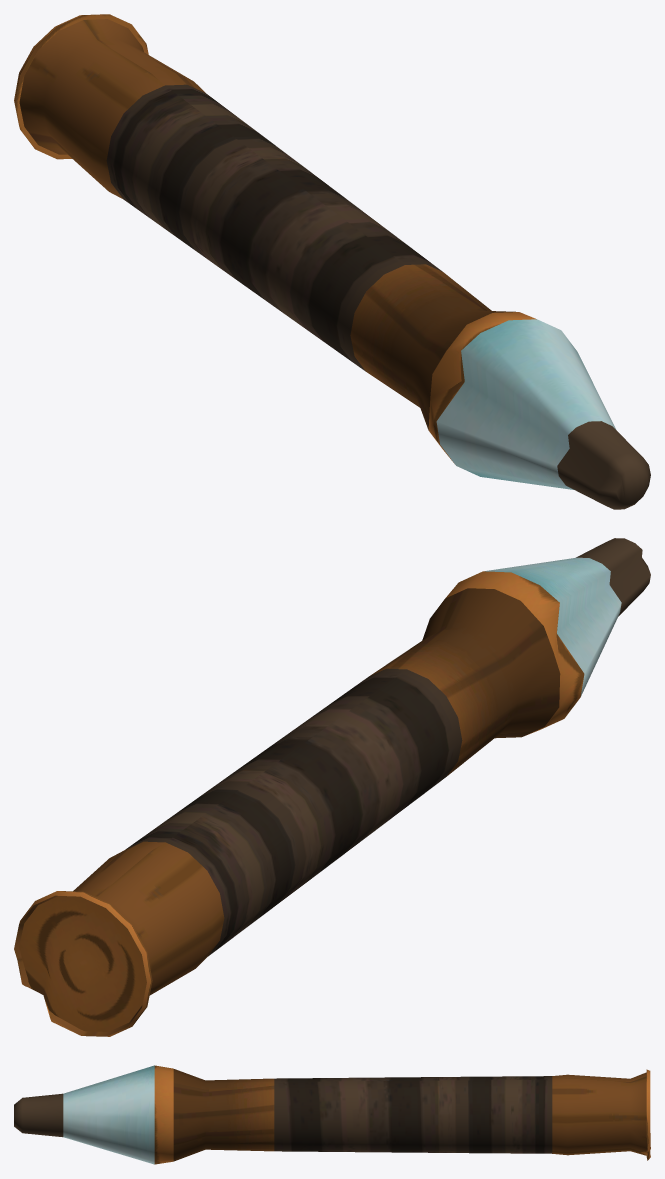
Rendered from SignWritingPenDrop_Drop.fbx.
3 views of the same model, one above another, from view 1: azimuth 30°, elevation 25°; view 2: azimuth 150°, elevation 25°; view 3: azimuth 270°, elevation 25° (orthographic). The views are drawn at different scales.
Visible parts, largest first — view 1: Capsule; view 2: Capsule; view 3: Capsule.
Part boxes in pixels (box(x1,y1,x2,y2)): Capsule: box(14, 14, 650, 509); Capsule: box(14, 538, 650, 1036); Capsule: box(14, 1065, 650, 1164).
Bounding box in the file's own units: 0.1624 × 0.1646 × 1.06.
